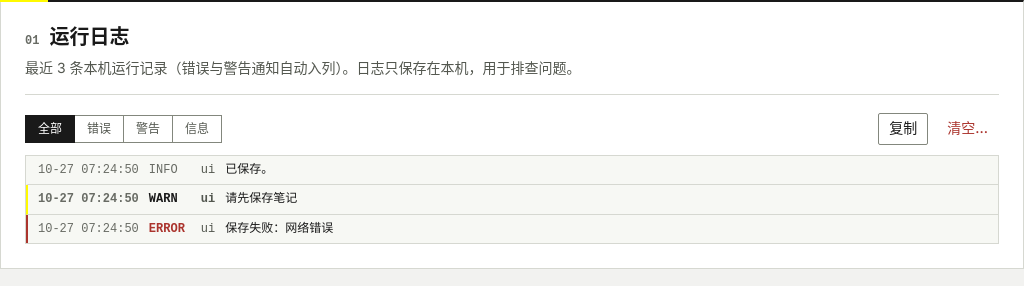
Test: 通知 × 日志联动（错误通知自动记 error 日志、发出与关闭留痕） › 错误通知自动记 error 日志并即时出现在运行日志面板（warn→warn、ok→info）
Expected: the text "保存失败：网络错误" is shown, [225, 219, 333, 239]
# 「错误」过滤后只剩 error 行：错误通知在面板中按 error 级别归档。
Click the button "错误": coordinates (99, 129) [74, 115, 124, 143]
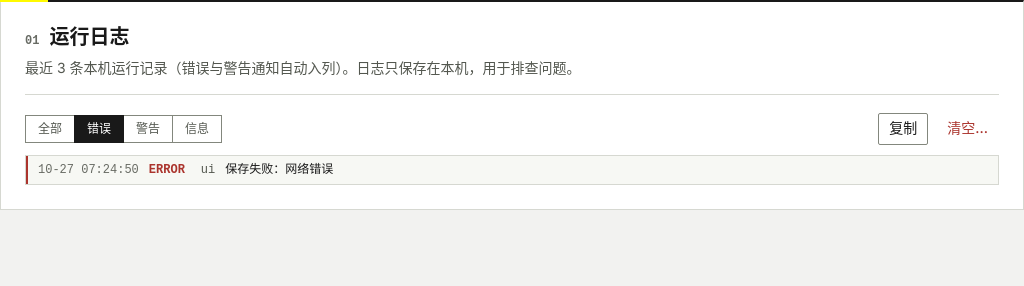
Expected: the text "保存失败：网络错误" is shown, [225, 160, 333, 180]
Expected: the text "请先保存笔记" is gone
Expected: the text "已保存。" is gone
